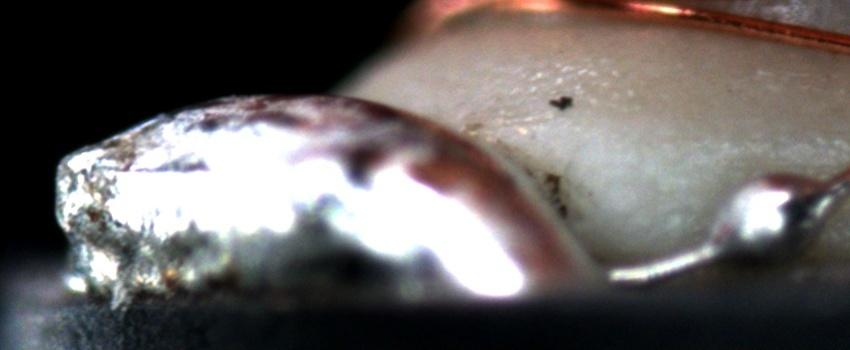DL: (686, 119, 849, 171)
